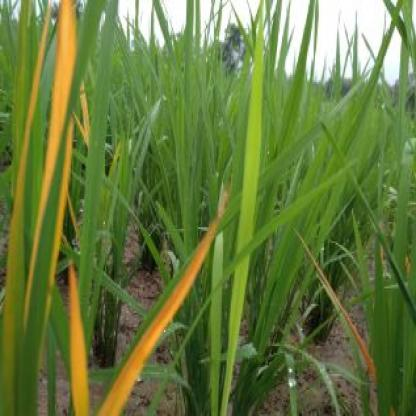Tungro: (12, 9, 88, 282), (64, 255, 105, 411)
